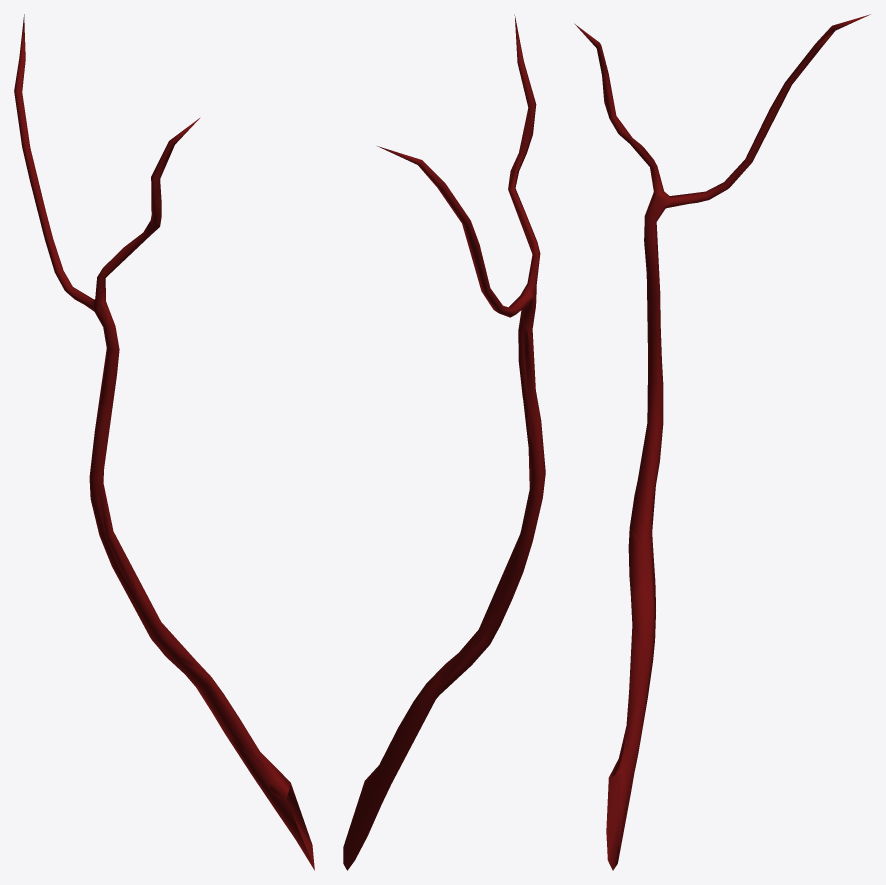
The model's file is R truncus costocervicalis.fbx.
3 views of the same model, side by side, from view 1: azimuth 30°, elevation 25°; view 2: azimuth 150°, elevation 25°; view 3: azimuth 270°, elevation 25° (orthographic). The views are drawn at different scales.
Visible parts, largest first — view 1: R truncus costocervicalis, R truncus costocervicalis low; view 2: R truncus costocervicalis, R truncus costocervicalis low; view 3: R truncus costocervicalis low, R truncus costocervicalis.
Part boxes in pixels (box(x1,y1,x2,y2)): R truncus costocervicalis: box(14, 14, 314, 869); R truncus costocervicalis low: box(22, 64, 314, 870); R truncus costocervicalis: box(343, 14, 545, 870); R truncus costocervicalis low: box(344, 108, 537, 866); R truncus costocervicalis low: box(598, 32, 832, 869); R truncus costocervicalis: box(574, 14, 870, 870).
Size of the model in its own units: 4.6 by 17.27 by 5.95.
